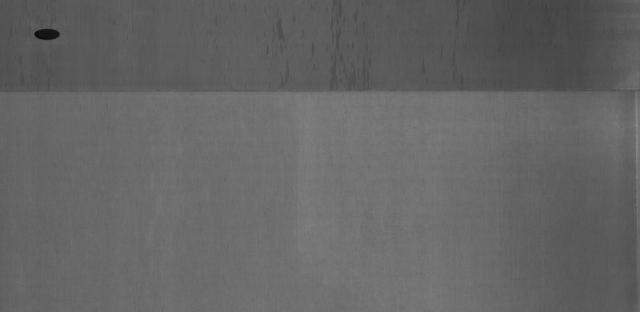punching_hole: (30, 26, 70, 46)
welding_line: (6, 80, 640, 100)
